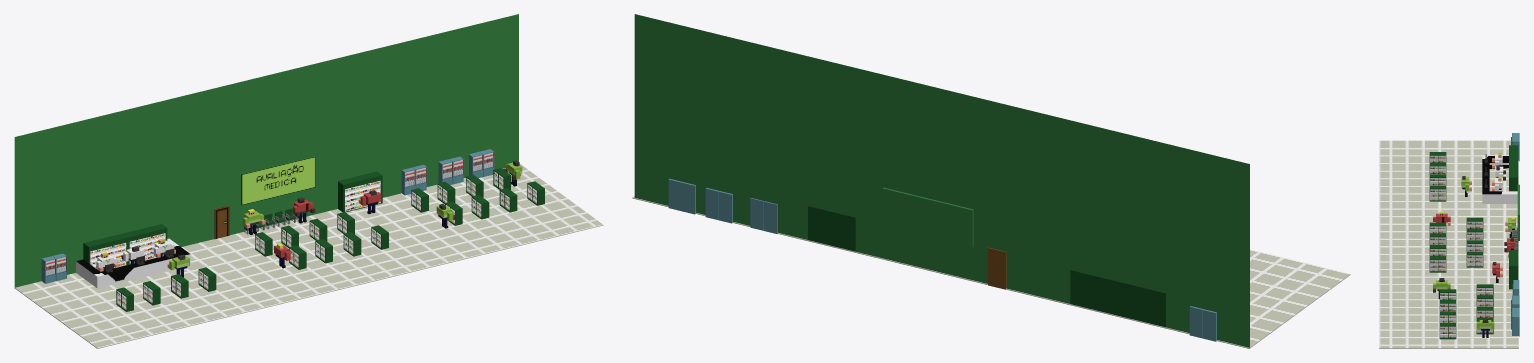
File: Farmacia.FBX
3 renders of one model, left to right at view 1: azimuth 30°, elevation 25°; view 2: azimuth 150°, elevation 25°; view 3: azimuth 270°, elevation 25°, orthographic. The views are drawn at different scales.
Visible parts, largest first — view 1: Parede, Piso, Pla_01, Bal_01, Pra_05, Pra_03, Pra_04, Pra_02, Pra_01, Est_03, Est_01, Est_02 (+6 smaller); view 2: Parede, Piso, Pla_01, Est_02, Est_03, Est_01, Ref_01, Ref_03, Ref_02, Ref_04, Porta; view 3: Piso, Pra_02, Pra_03, Pra_04, Pra_05, Bal_01, Pra_01, Est_03, Est_02, Ref_03, Boneco_009, Boneco_008 (+12 smaller).
Boxes of the visible parts, x1=… form: Parede: x1=14, y1=14, x2=518, y2=287; Piso: x1=14, y1=164, x2=603, y2=348; Pla_01: x1=241, y1=156, x2=315, y2=205; Bal_01: x1=76, y1=238, x2=190, y2=288; Pra_05: x1=116, y1=267, x2=216, y2=311; Pra_03: x1=289, y1=225, x2=388, y2=269; Pra_04: x1=255, y1=212, x2=354, y2=256; Pra_02: x1=445, y1=181, x2=544, y2=225; Pra_01: x1=411, y1=168, x2=510, y2=212; Est_03: x1=338, y1=171, x2=382, y2=212; Est_01: x1=83, y1=233, x2=127, y2=268; Est_02: x1=123, y1=224, x2=167, y2=264; Parede: x1=634, y1=14, x2=1249, y2=347; Piso: x1=632, y1=196, x2=1350, y2=348; Pla_01: x1=882, y1=187, x2=973, y2=247; Est_02: x1=1070, y1=270, x2=1118, y2=315; Est_03: x1=808, y1=206, x2=855, y2=251; Est_01: x1=1118, y1=282, x2=1165, y2=327; Ref_01: x1=750, y1=198, x2=777, y2=233; Ref_03: x1=668, y1=178, x2=695, y2=214; Ref_02: x1=705, y1=188, x2=732, y2=223; Ref_04: x1=1189, y1=306, x2=1216, y2=341; Porta: x1=988, y1=247, x2=1006, y2=289; Piso: x1=1379, y1=140, x2=1518, y2=348; Pra_02: x1=1439, y1=289, x2=1456, y2=339; Pra_03: x1=1429, y1=222, x2=1446, y2=272; Pra_04: x1=1466, y1=217, x2=1483, y2=267; Pra_05: x1=1429, y1=152, x2=1446, y2=201; Bal_01: x1=1482, y1=156, x2=1517, y2=203; Pra_01: x1=1476, y1=284, x2=1493, y2=334; Est_03: x1=1509, y1=250, x2=1518, y2=289; Est_02: x1=1509, y1=161, x2=1518, y2=191; Ref_03: x1=1511, y1=308, x2=1519, y2=336; Boneco_009: x1=1476, y1=319, x2=1494, y2=337; Boneco_008: x1=1433, y1=278, x2=1450, y2=298.
Bounding box in the file's own units: 6844 × 1960 × 1959.
22 materials, 22 textured.
